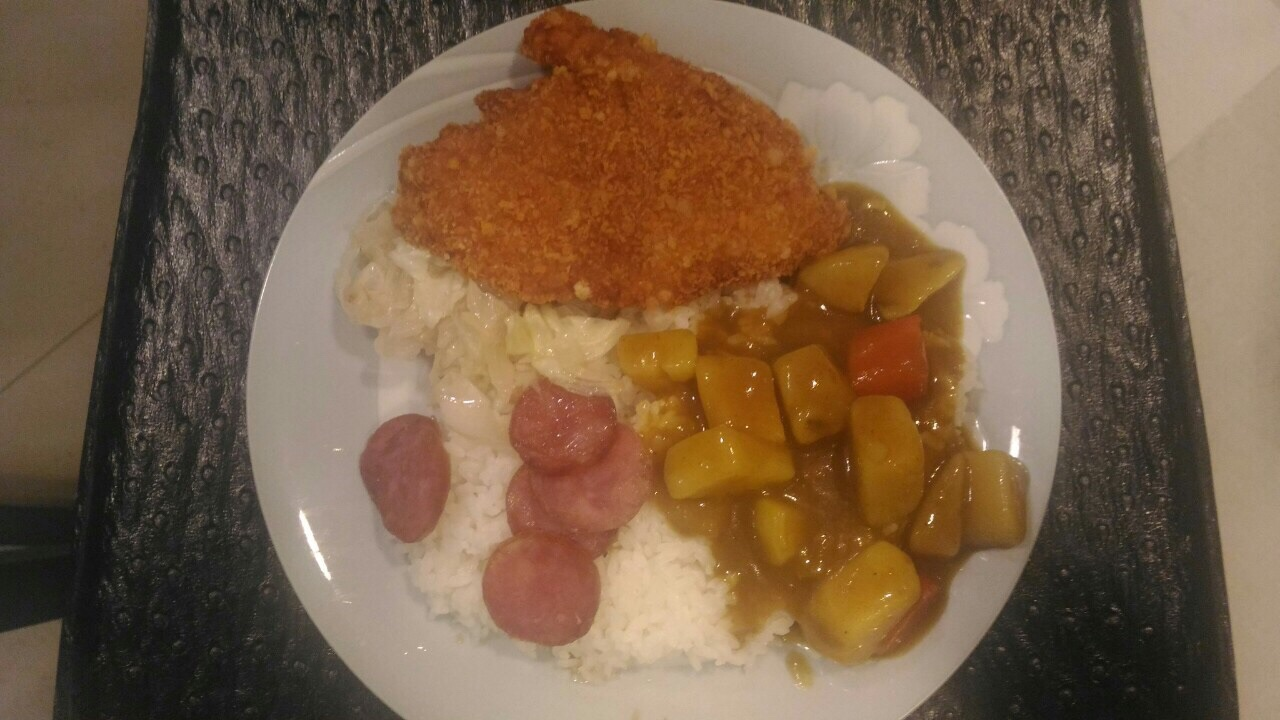chinese_cabbage: (374, 303, 630, 386)
chinese_sausage: (488, 377, 653, 647), (359, 415, 453, 543)
curry: (694, 281, 959, 576)
fried_chicken: (398, 11, 815, 316)
rice: (606, 541, 714, 673)
